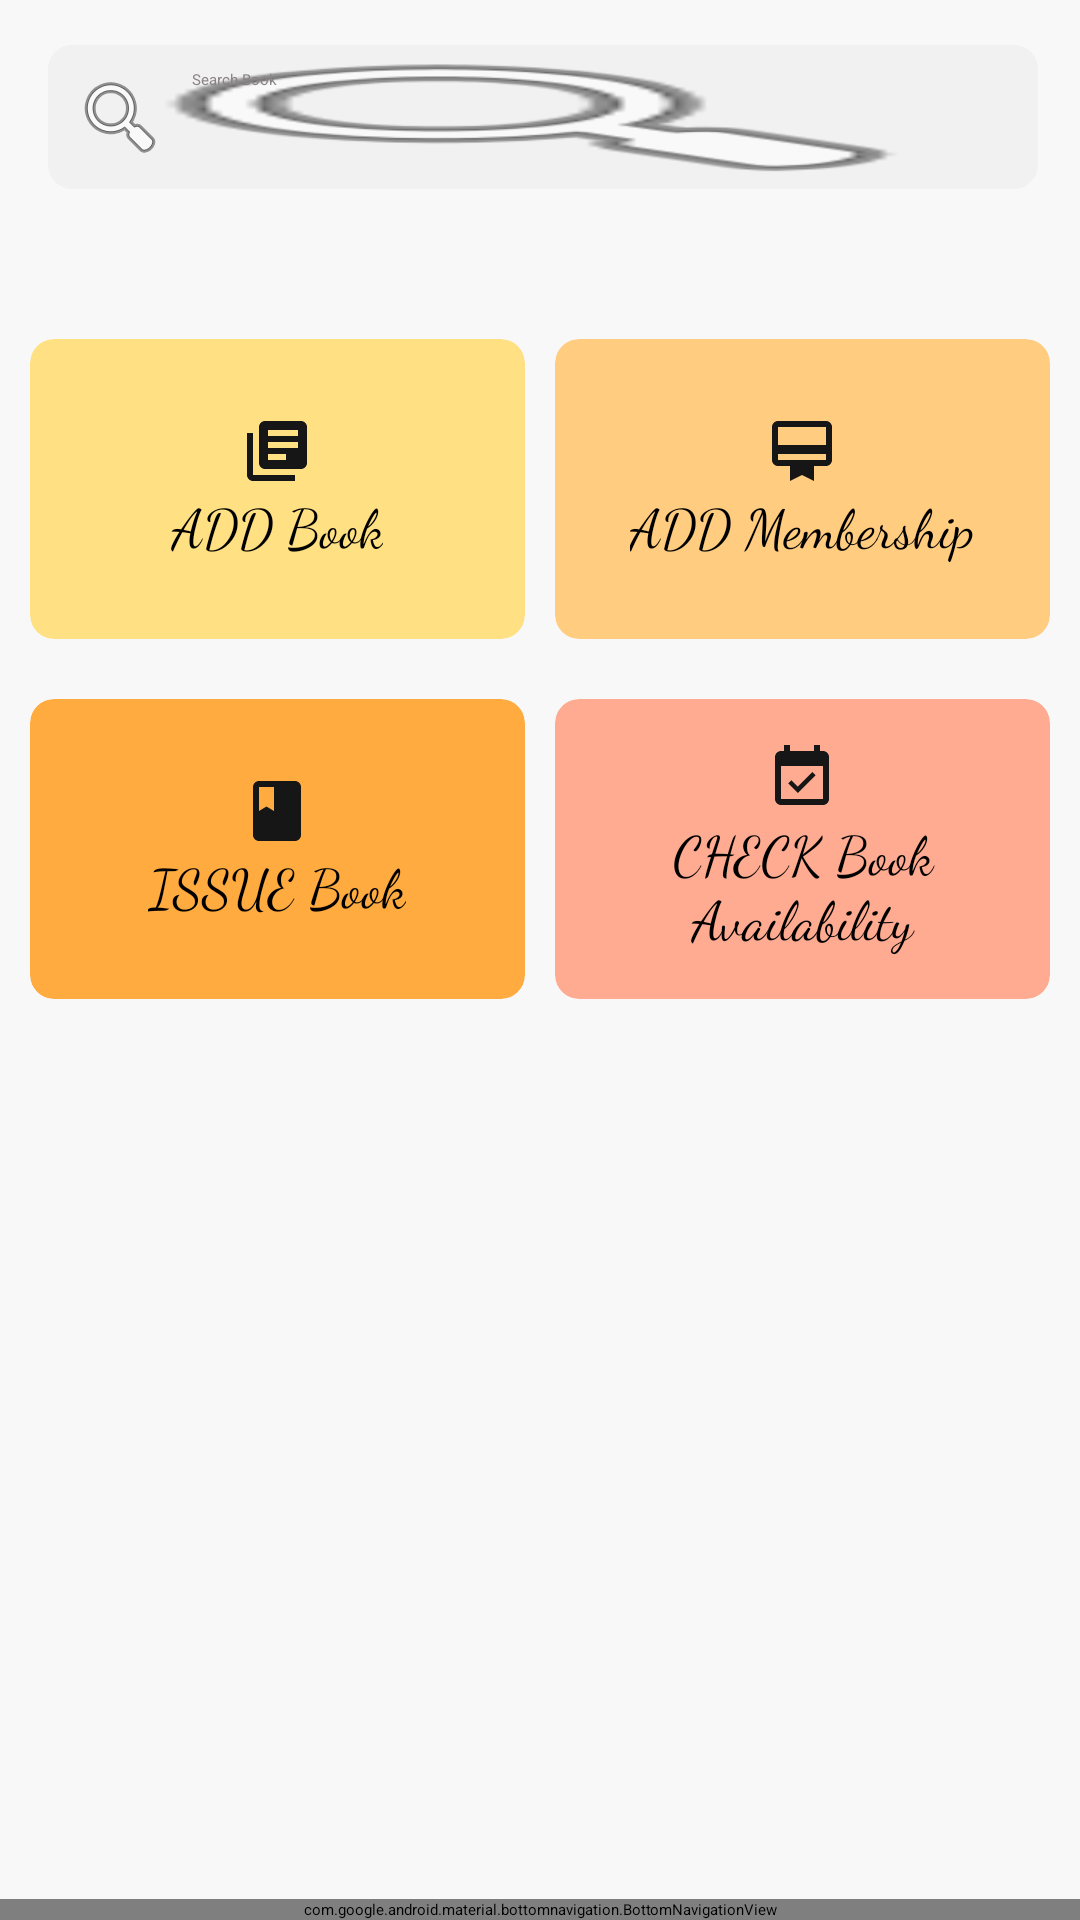

Named icons in this screenshot (1080px x 1920px) and their bounding boxes, (x1, y1, x2, y2):
card membership: (772, 421, 832, 481)
event available: (775, 745, 829, 805)
library books: (247, 421, 307, 481)
